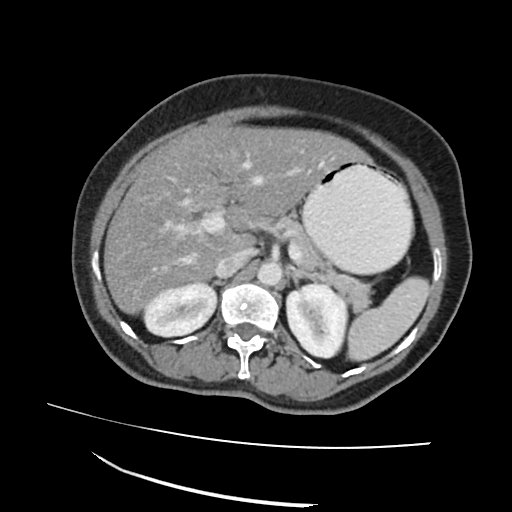aorta: (255, 258, 284, 285)
